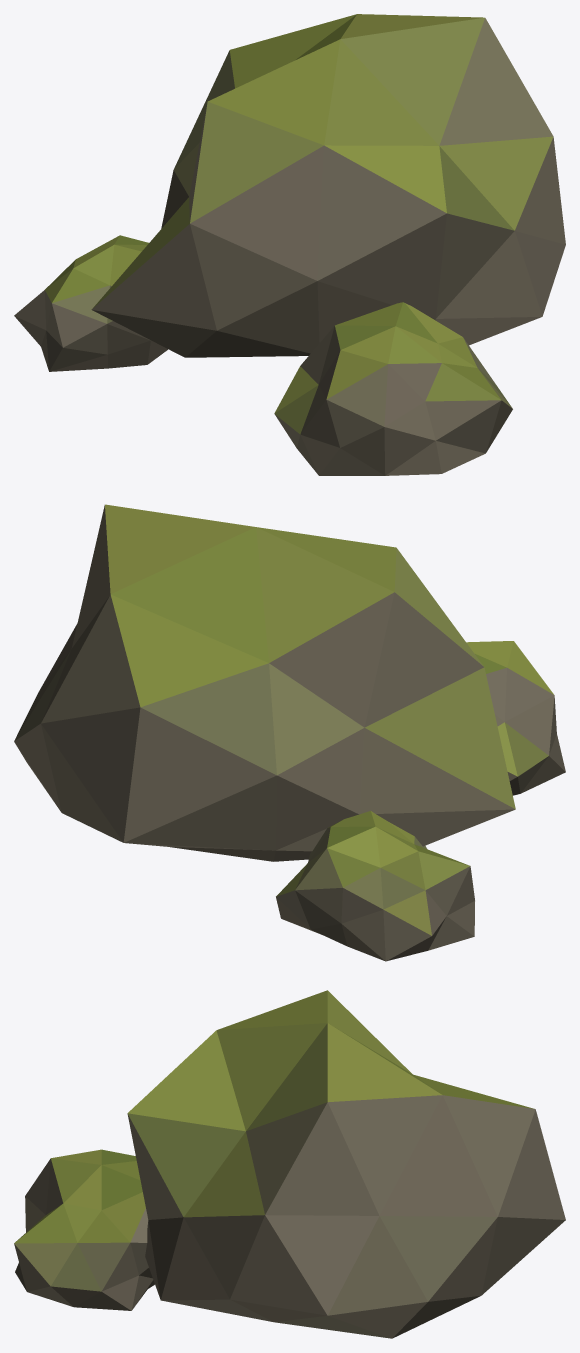
The model's file is cliff_a.glb.
The picture shows the model from 3 angles, top to bottom: view 1: azimuth 30°, elevation 25°; view 2: azimuth 150°, elevation 25°; view 3: azimuth 270°, elevation 25°; orthographic projection. The views are drawn at different scales.
Visible parts, largest first — view 1: cliff_a_solid; view 2: cliff_a_solid; view 3: cliff_a_solid.
Boxes of the visible parts, <box> form: cliff_a_solid: <box>14,14,565,475</box>; cliff_a_solid: <box>14,504,565,961</box>; cliff_a_solid: <box>14,990,565,1338</box>.
Bounding box in the file's own units: 10.43 × 6.63 × 11.56.
